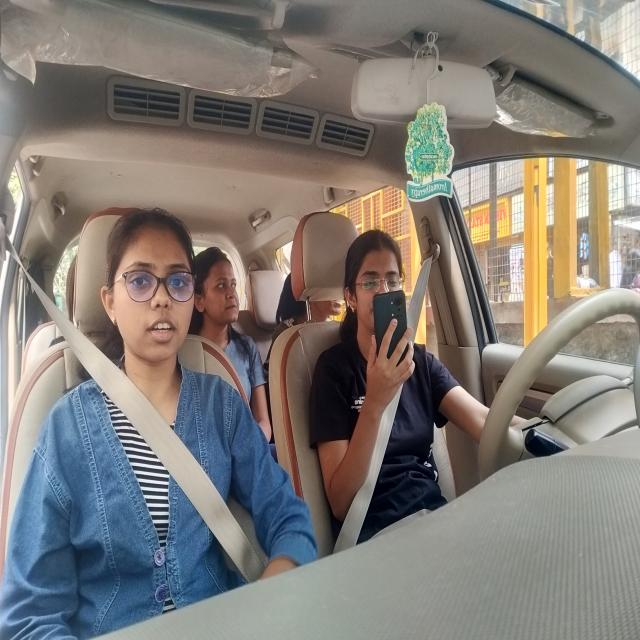mobile: (364, 285, 414, 361)
person: (114, 215, 196, 352), (341, 239, 409, 333), (198, 248, 246, 333), (280, 275, 347, 320)
